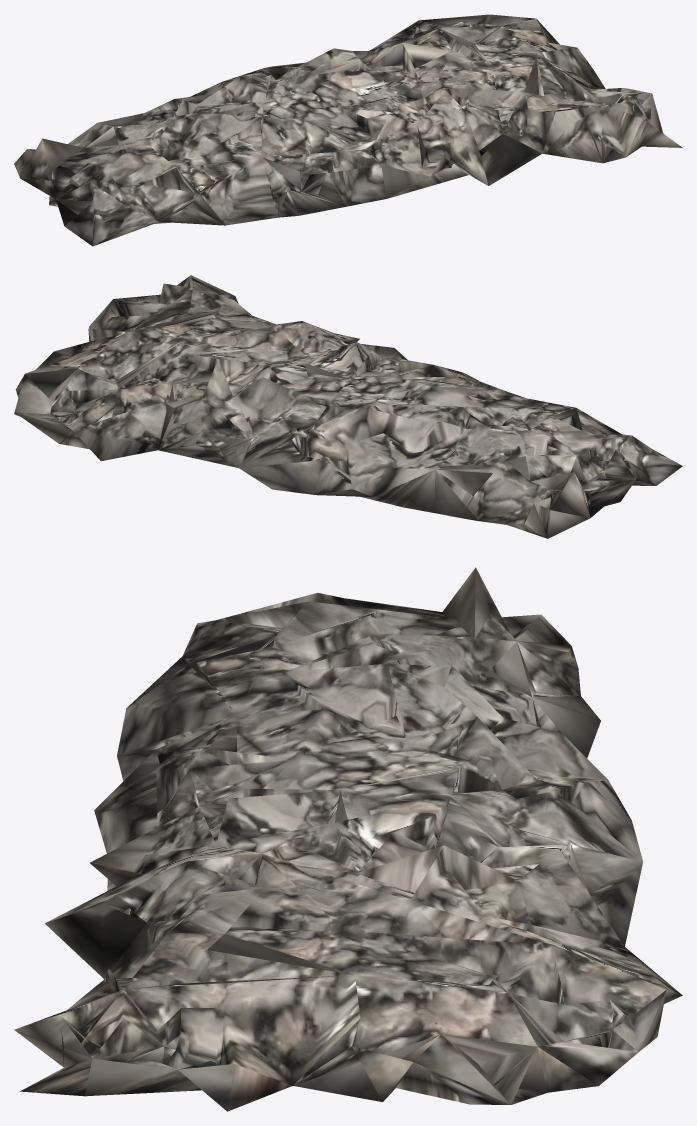
File: bank_a_lod2.glb
3 views of the same model, one above another, from view 1: azimuth 30°, elevation 25°; view 2: azimuth 150°, elevation 25°; view 3: azimuth 270°, elevation 25° (orthographic). The views are drawn at different scales.
Visible parts, largest first — view 1: bank_a_lod2; view 2: bank_a_lod2; view 3: bank_a_lod2.
Boxes of the visible parts, left/top/right/bottom form: bank_a_lod2: left=14, top=14, right=682, bottom=246; bank_a_lod2: left=14, top=275, right=682, bottom=538; bank_a_lod2: left=14, top=567, right=682, bottom=1111.
Bounding box in the file's own units: 20.76 × 2.14 × 11.87.
Materials: 1 (1 with a texture image).
